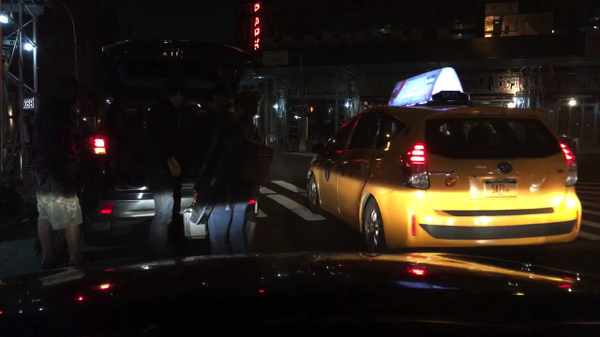car: (305, 67, 581, 259), (81, 35, 267, 242)
person: (27, 71, 107, 270), (193, 88, 262, 258), (138, 74, 191, 265), (35, 108, 89, 263)
traffic light: (307, 107, 315, 114)
traffic sign: (294, 103, 308, 109)
